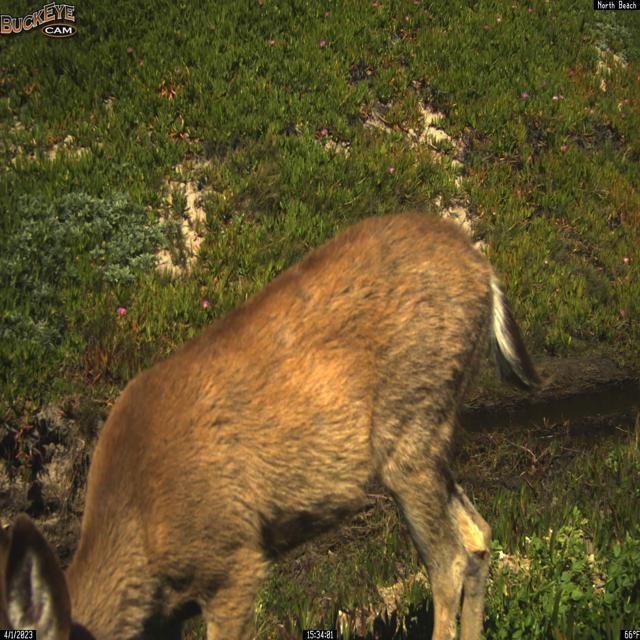deer: (1, 211, 546, 640)
